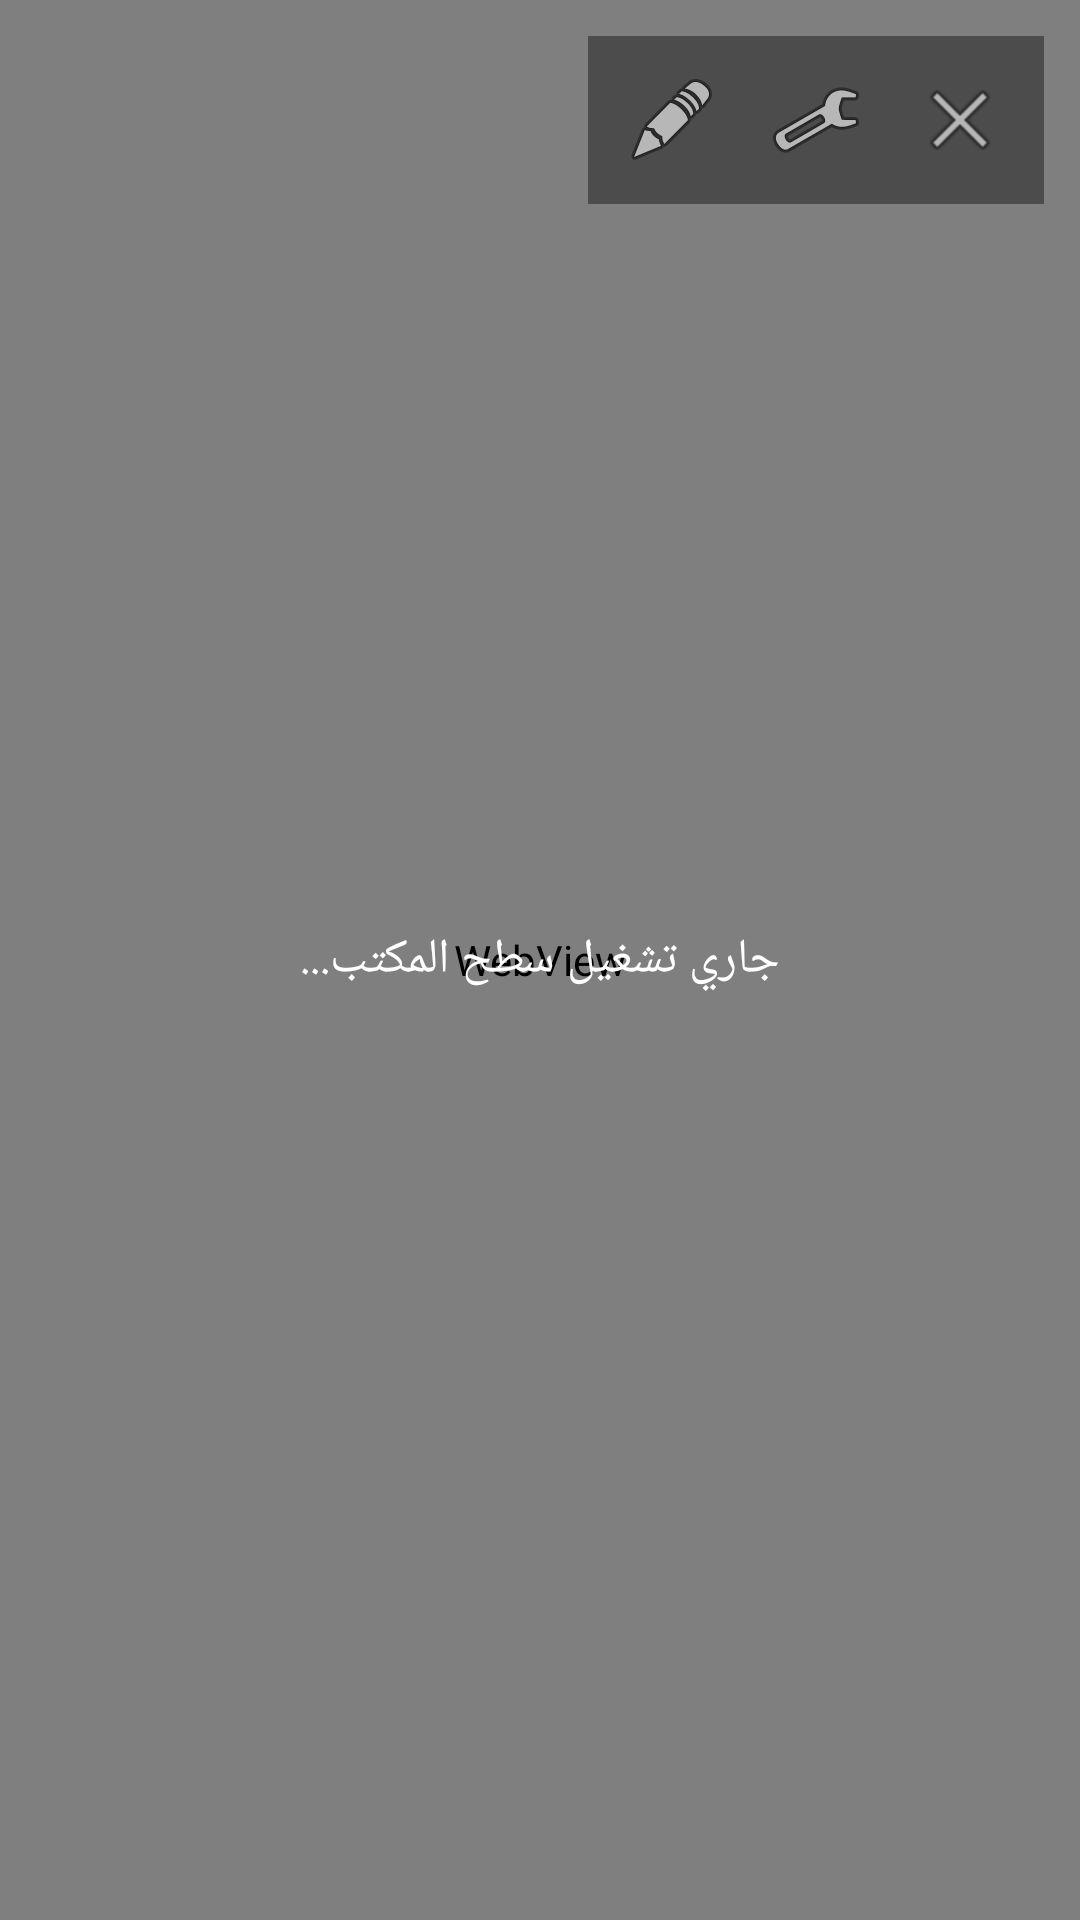

Icon click points for this 1080*1920 phone screenshot, format point (x, y):
خروج: point (960, 120)
